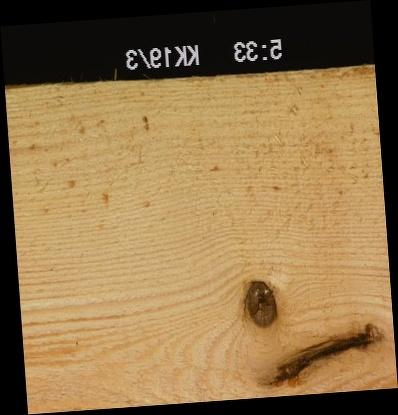dry_knot: (243, 278, 278, 329)
